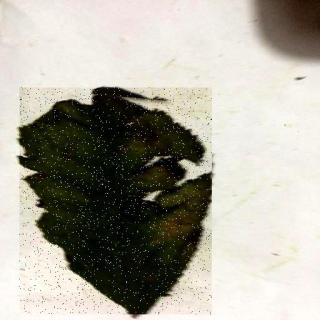Red Leaf Spot: (20, 89, 213, 316)
